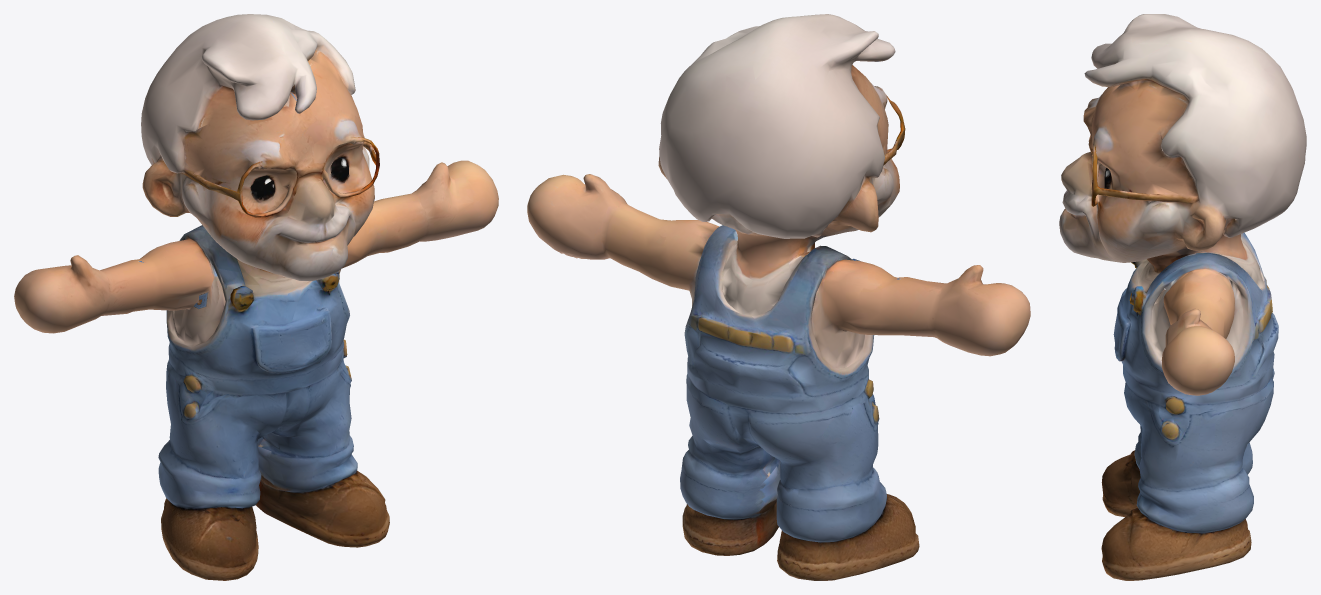
File: donald.glb
3 renders of one model, left to right at view 1: azimuth 30°, elevation 25°; view 2: azimuth 150°, elevation 25°; view 3: azimuth 270°, elevation 25°, orthographic. The views are drawn at different scales.
Parts seen in each view (by area): view 1: donald; view 2: donald; view 3: donald.
Part boxes in pixels (left/top/right/bottom): donald: left=14, top=14, right=498, bottom=580; donald: left=527, top=14, right=1030, bottom=580; donald: left=1059, top=14, right=1306, bottom=580.
Bounding box in the file's own units: 0.9547 × 0.993 × 0.4396.
Materials: 1 (1 with a texture image).
